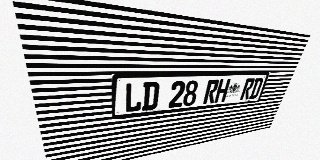2: (168, 81, 186, 108)
8: (182, 80, 200, 106)
D: (141, 82, 160, 111), (248, 78, 264, 99)
H: (214, 79, 231, 103)
L: (124, 82, 143, 113)
R: (203, 79, 220, 104), (240, 78, 255, 100)
